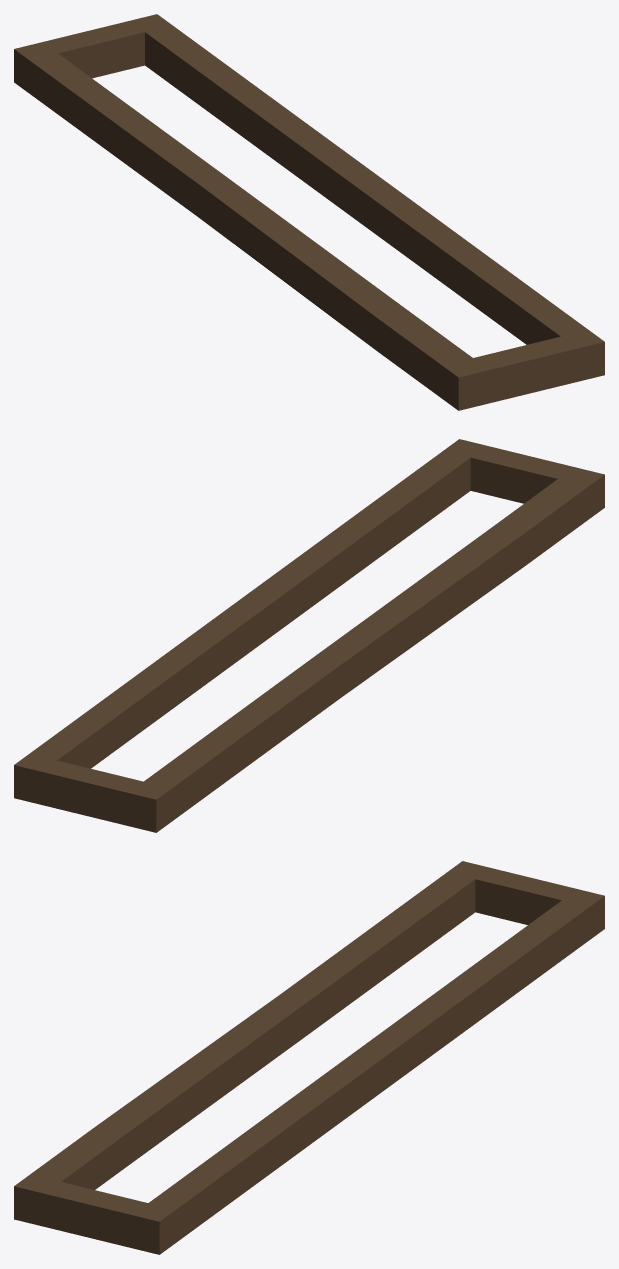
File: veneer_4.fbx
3 views of the same model, one above another, from view 1: azimuth 30°, elevation 25°; view 2: azimuth 150°, elevation 25°; view 3: azimuth 330°, elevation 25° (orthographic).
Visible parts, largest first — view 1: Cube.003; view 2: Cube.003; view 3: Cube.003.
Boxes of the visible parts, left/top/right/bottom form: Cube.003: left=14, top=14, right=604, bottom=410; Cube.003: left=14, top=439, right=604, bottom=832; Cube.003: left=14, top=861, right=604, bottom=1254.
Size of the model in its own units: 128 by 27.91 by 679.
